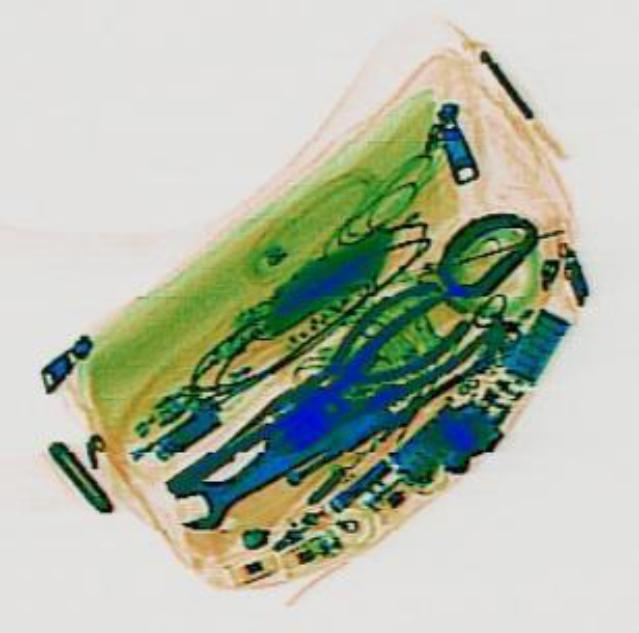Pliers: (226, 268, 473, 457), (254, 280, 489, 465)
Wrench: (158, 366, 423, 539)
